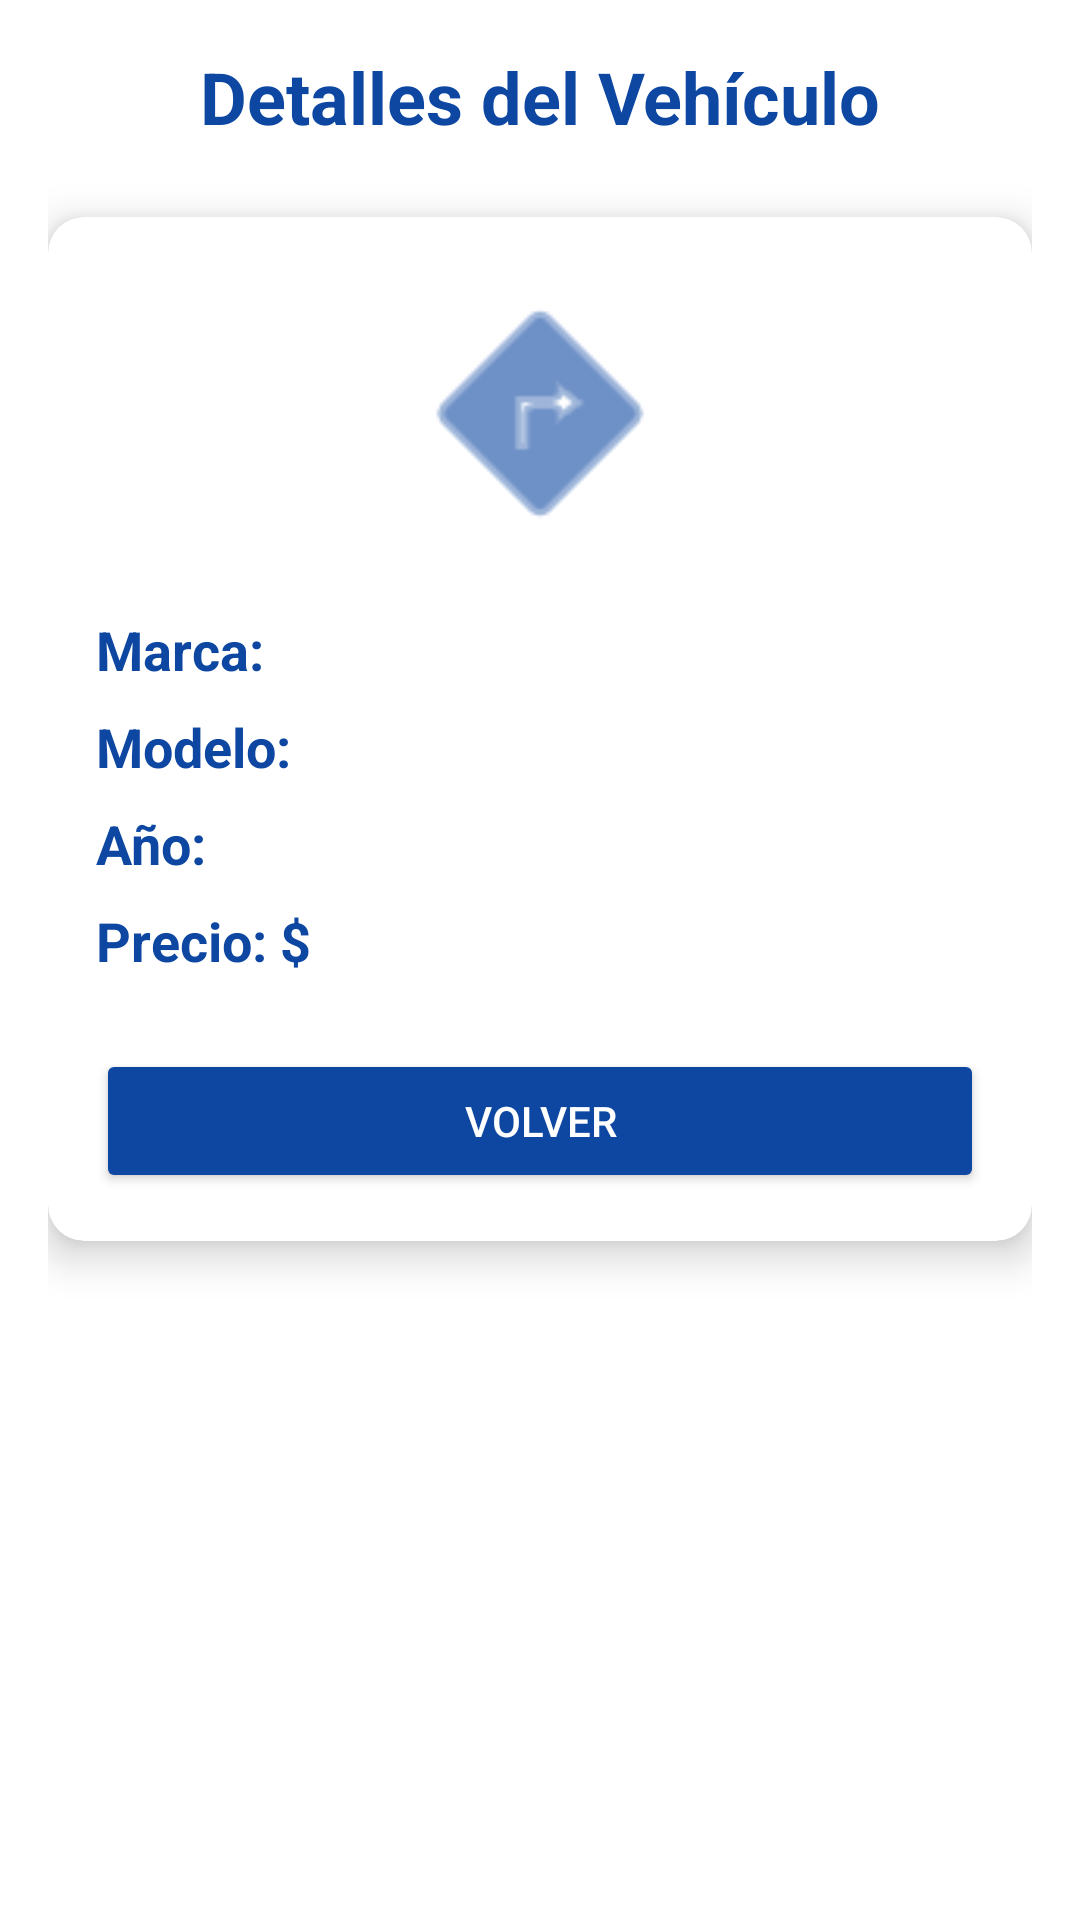

Icons on this 1080*1920 Android screen, each with the point to tap as (x=x, y=y):
directions: (x=540, y=413)
